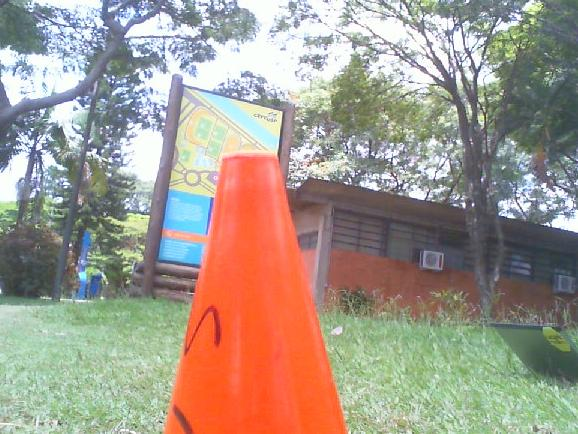0 cone: (158, 150, 353, 434)
